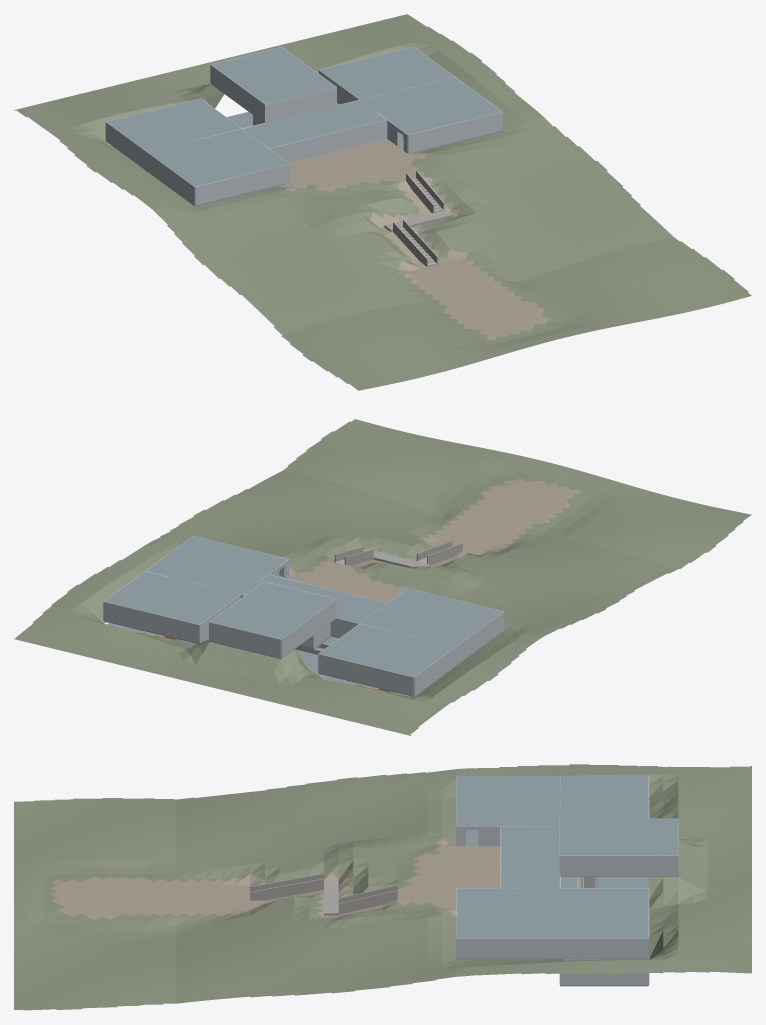
File: lower-service-partitions.glb
3 renders of one model, top to bottom at view 1: azimuth 30°, elevation 25°; view 2: azimuth 150°, elevation 25°; view 3: azimuth 270°, elevation 25°, orthographic. The views are drawn at different scales.
Parts seen in each view (by area): view 1: WLD-17 saved ground, Ceiling cap west, Ceiling cap east, Ceiling cap service, Ceiling cap magazine, Ceiling cap director, Ceiling cap gallery, Wall gallery S, Wall east S, Wall west S, Wall director S, Wall director W (+2 smaller); view 2: WLD-17 saved ground, Ceiling cap west, Ceiling cap east, Ceiling cap director, Ceiling cap service, Ceiling cap magazine, Wall service N, Wall magazine N, Ceiling cap gallery, Wall director N, Wall director W, Wall west W (+1 smaller); view 3: WLD-17 saved ground, Ceiling cap east, Ceiling cap west, Ceiling cap service, Ceiling cap director, Ceiling cap magazine, Ceiling cap gallery, Wall director E, Wall east E, Wall service E, Wall plant E, Battery route-02 east anchored parapet region0 (+5 smaller).
Part boxes in pixels (left/top/right/bottom): WLD-17 saved ground: left=14, top=14, right=751, bottom=390; Ceiling cap west: left=148, top=129, right=289, bottom=186; Ceiling cap east: left=361, top=77, right=501, bottom=134; Ceiling cap service: left=319, top=47, right=454, bottom=99; Ceiling cap magazine: left=107, top=99, right=240, bottom=151; Ceiling cap director: left=211, top=47, right=335, bottom=104; Ceiling cap gallery: left=243, top=100, right=386, bottom=148; Wall gallery S: left=269, top=120, right=387, bottom=162; Wall east S: left=408, top=112, right=502, bottom=153; Wall west S: left=195, top=164, right=289, bottom=205; Wall director S: left=265, top=87, right=336, bottom=122; Wall director W: left=210, top=64, right=265, bottom=122; WLD-17 saved ground: left=14, top=419, right=751, bottom=735; Ceiling cap west: left=360, top=588, right=502, bottom=646; Ceiling cap east: left=146, top=536, right=287, bottom=594; Ceiling cap director: left=210, top=582, right=335, bottom=639; Ceiling cap service: left=104, top=571, right=240, bottom=624; Ceiling cap magazine: left=319, top=624, right=454, bottom=676; Wall service N: left=103, top=601, right=199, bottom=643; Wall magazine N: left=318, top=654, right=413, bottom=695; Ceiling cap gallery: left=241, top=575, right=386, bottom=623; Wall director N: left=209, top=622, right=280, bottom=658; Wall director W: left=281, top=599, right=336, bottom=658; Wall west W: left=456, top=611, right=503, bottom=665; WLD-17 saved ground: left=14, top=764, right=751, bottom=1010; Ceiling cap east: left=456, top=888, right=559, bottom=938; Ceiling cap west: left=456, top=776, right=559, bottom=825; Ceiling cap service: left=560, top=888, right=648, bottom=938; Ceiling cap director: left=560, top=818, right=678, bottom=855; Ceiling cap magazine: left=560, top=776, right=648, bottom=818; Ceiling cap gallery: left=501, top=826, right=559, bottom=888; Wall director E: left=560, top=855, right=678, bottom=876; Wall east E: left=456, top=938, right=559, bottom=958; Wall service E: left=560, top=938, right=648, bottom=958; Wall plant E: left=560, top=973, right=648, bottom=985; Battery route-02 east anchored parapet region0: left=250, top=878, right=323, bottom=900.
Bounding box in the file's own units: 68 × 10.65 × 100.
